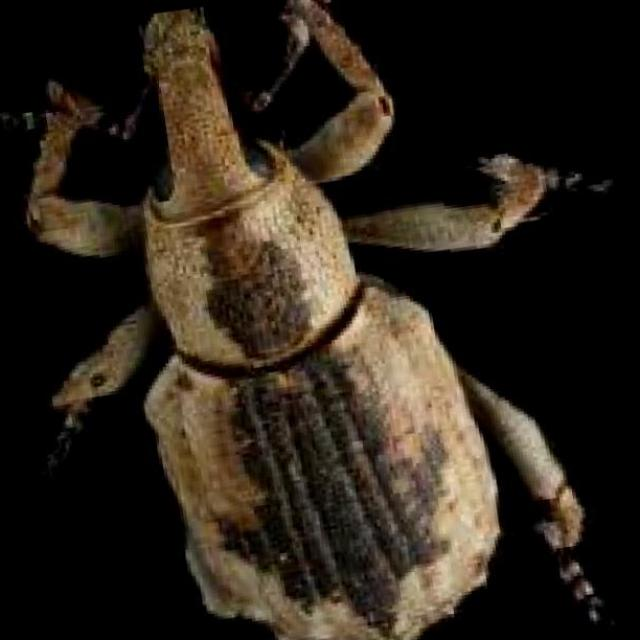ricebug: (135, 10, 584, 640)
